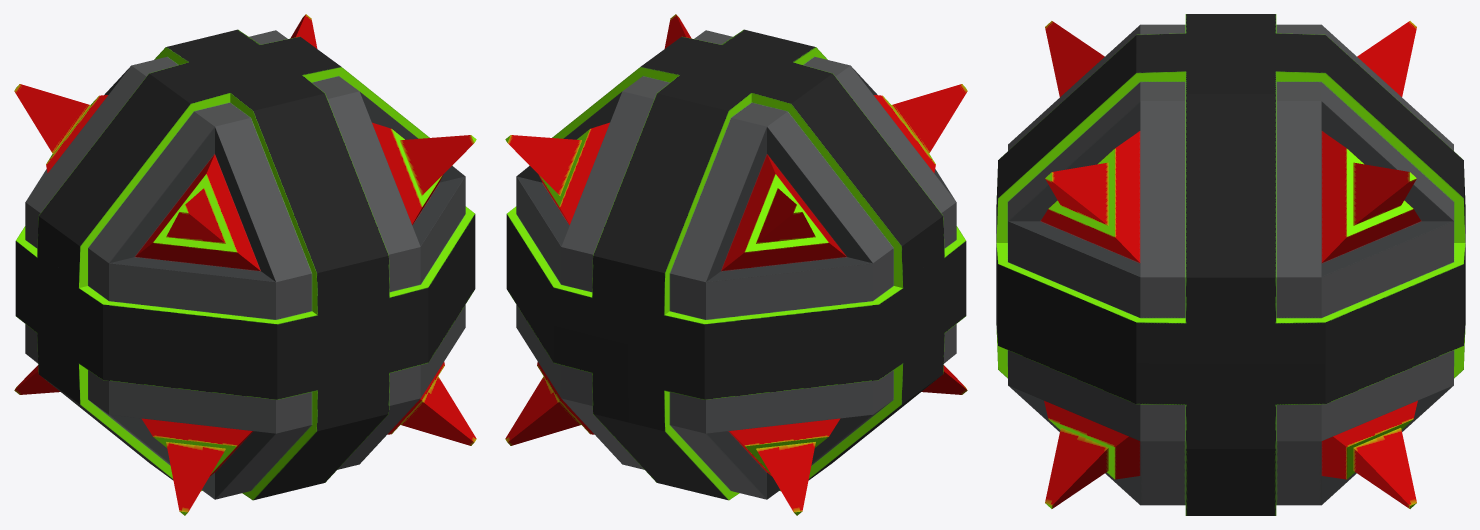
File: bom2.fbx
The picture shows the model from 3 angles, left to right: view 1: azimuth 30°, elevation 25°; view 2: azimuth 150°, elevation 25°; view 3: azimuth 270°, elevation 25°; orthographic projection. The views are drawn at different scales.
Parts seen in each view (by area): view 1: BOM; view 2: BOM; view 3: BOM.
Boxes of the visible parts, x1,y1,x2,y2 form: BOM: [14, 14, 476, 515]; BOM: [505, 14, 967, 515]; BOM: [996, 14, 1465, 515].
Size of the model in its own units: 105 by 105 by 105.
Materials: 1 (1 with a texture image).
